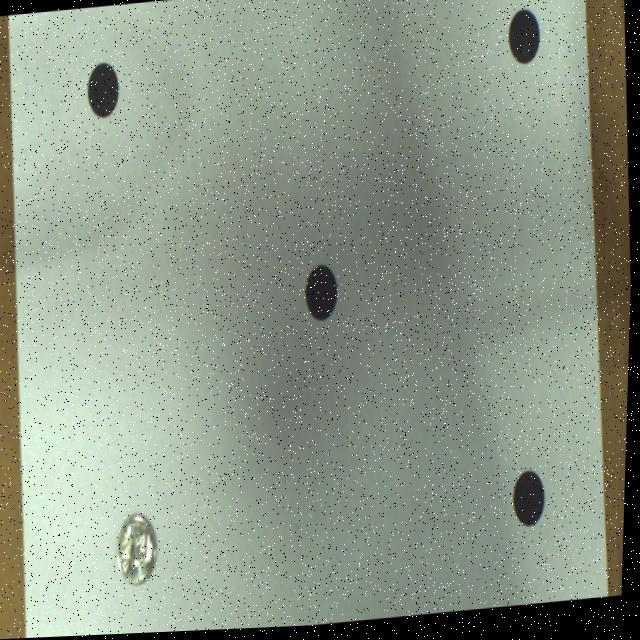head1bath: (121, 516, 160, 585)
space: (308, 268, 339, 324), (89, 63, 120, 118), (517, 476, 548, 530), (509, 15, 540, 67)
